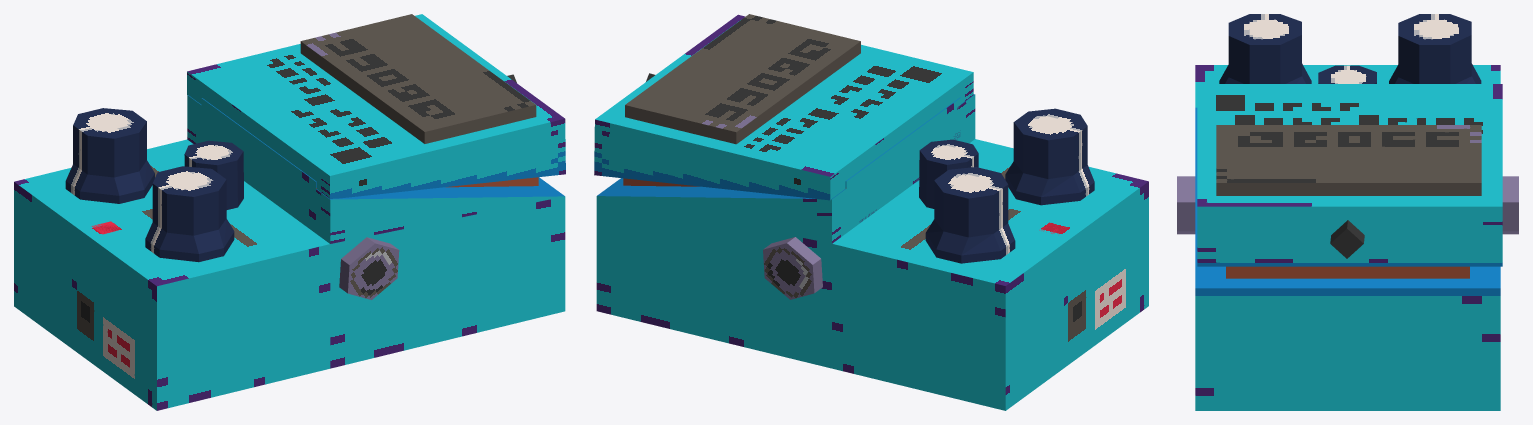
Rendered from Boss_CE2.gltf.
3 renders of one model, left to right at view 1: azimuth 30°, elevation 25°; view 2: azimuth 150°, elevation 25°; view 3: azimuth 270°, elevation 25°, orthographic. The views are drawn at different scales.
Size of the model in its own units: 4.32 by 1.97 by 2.8.
Materials: 1 (1 with a texture image).
